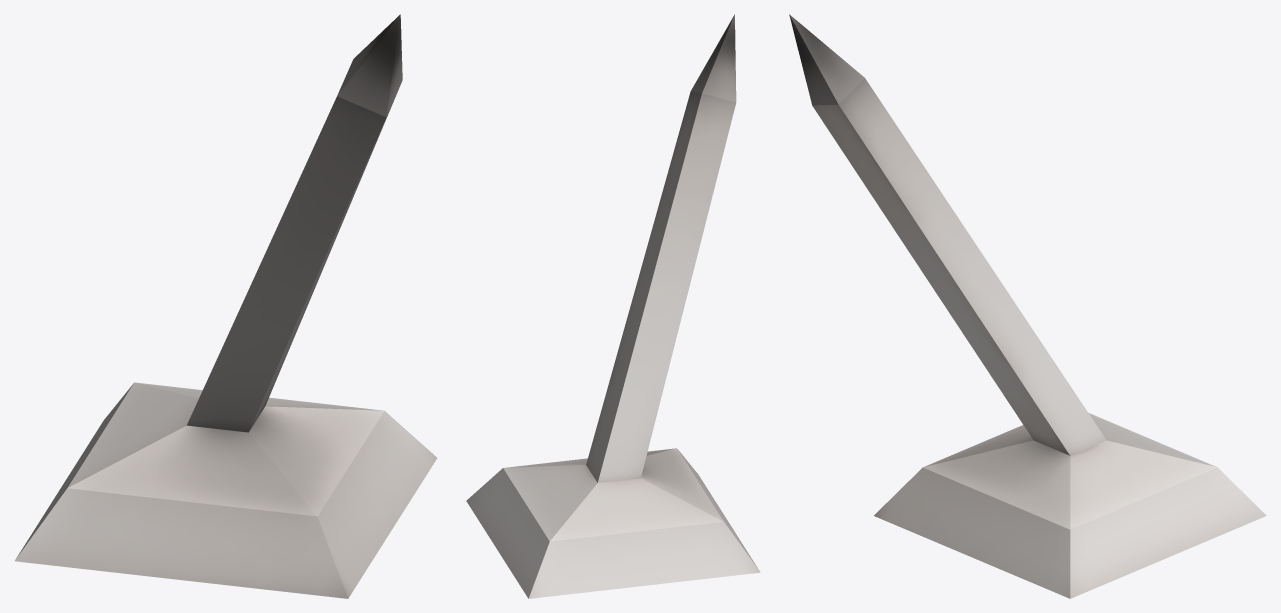
File: Landing_Strut_01.fbx
3 renders of one model, left to right at view 1: azimuth 30°, elevation 25°; view 2: azimuth 150°, elevation 25°; view 3: azimuth 270°, elevation 25°, orthographic. The views are drawn at different scales.
Visible parts, largest first — view 1: strut_t1; view 2: strut_t1; view 3: strut_t1.
Part boxes in pixels (box(x1,y1,x2,y2)): strut_t1: box(15, 14, 437, 598); strut_t1: box(466, 14, 760, 598); strut_t1: box(789, 14, 1266, 598).
Size of the model in its own units: 5.46 by 7.69 by 6.64.
